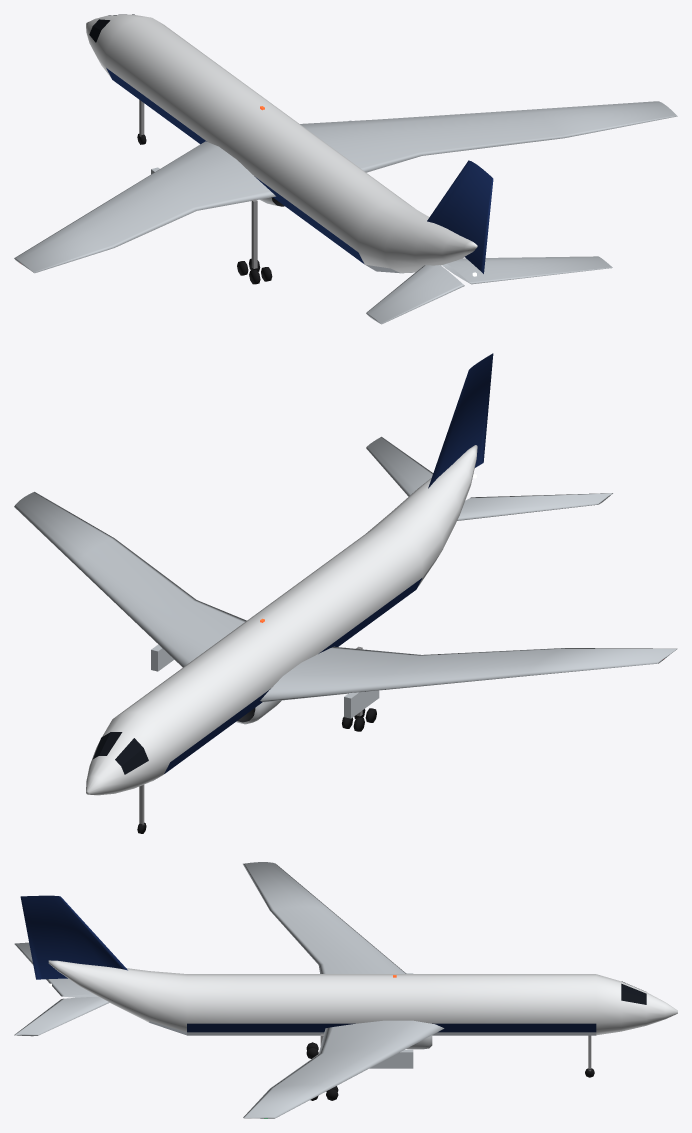
Rendered from fleet_heavy2_lod1.glb.
The picture shows the model from 3 angles, top to bottom: view 1: azimuth 30°, elevation 25°; view 2: azimuth 150°, elevation 25°; view 3: azimuth 270°, elevation 25°; orthographic projection. The views are drawn at different scales.
Parts seen in each view (by area): view 1: fleet_heavy2_lod1_wing, fleet_heavy2_lod1_white, fleet_heavy2_lod1_blue, fleet_heavy2_lod1_metal, fleet_heavy2_lod1_tyre; view 2: fleet_heavy2_lod1_white, fleet_heavy2_lod1_wing, fleet_heavy2_lod1_blue, fleet_heavy2_lod1_glass; view 3: fleet_heavy2_lod1_white, fleet_heavy2_lod1_wing, fleet_heavy2_lod1_blue, fleet_heavy2_lod1_belly, fleet_heavy2_lod1_tyre, fleet_heavy2_lod1_glass.
Part boxes in pixels (x1,y1,x2,y2): fleet_heavy2_lod1_wing: (14, 101, 677, 324); fleet_heavy2_lod1_white: (86, 14, 477, 273); fleet_heavy2_lod1_blue: (106, 68, 493, 273); fleet_heavy2_lod1_metal: (139, 100, 257, 268); fleet_heavy2_lod1_tyre: (137, 134, 272, 284); fleet_heavy2_lod1_white: (86, 445, 477, 795); fleet_heavy2_lod1_wing: (14, 436, 677, 718); fleet_heavy2_lod1_blue: (164, 353, 493, 773); fleet_heavy2_lod1_glass: (93, 732, 148, 774); fleet_heavy2_lod1_white: (48, 960, 677, 1035); fleet_heavy2_lod1_wing: (14, 862, 444, 1118); fleet_heavy2_lod1_blue: (20, 895, 596, 1032); fleet_heavy2_lod1_belly: (149, 1021, 596, 1035); fleet_heavy2_lod1_tyre: (306, 1042, 594, 1100); fleet_heavy2_lod1_glass: (621, 981, 646, 1004).
Size of the model in its own units: 60.9 by 20.19 by 67.21.
